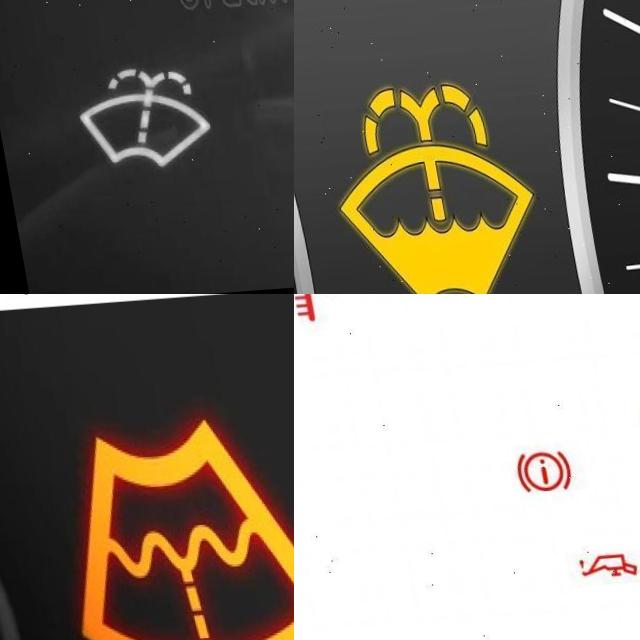Washer Fluid: (58, 66, 201, 172)
